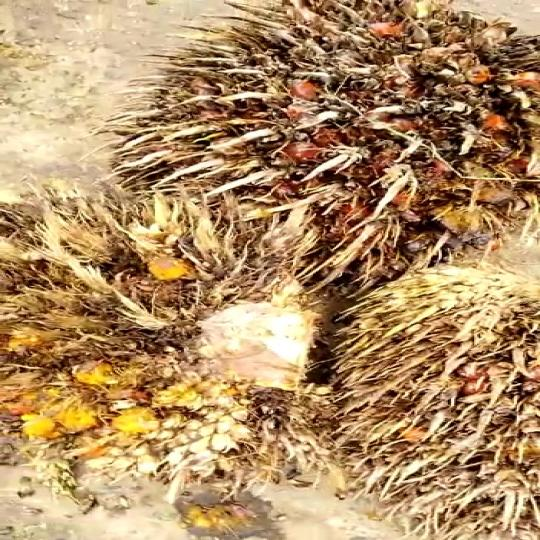terlalu masak: (111, 0, 540, 274), (0, 196, 324, 429)
